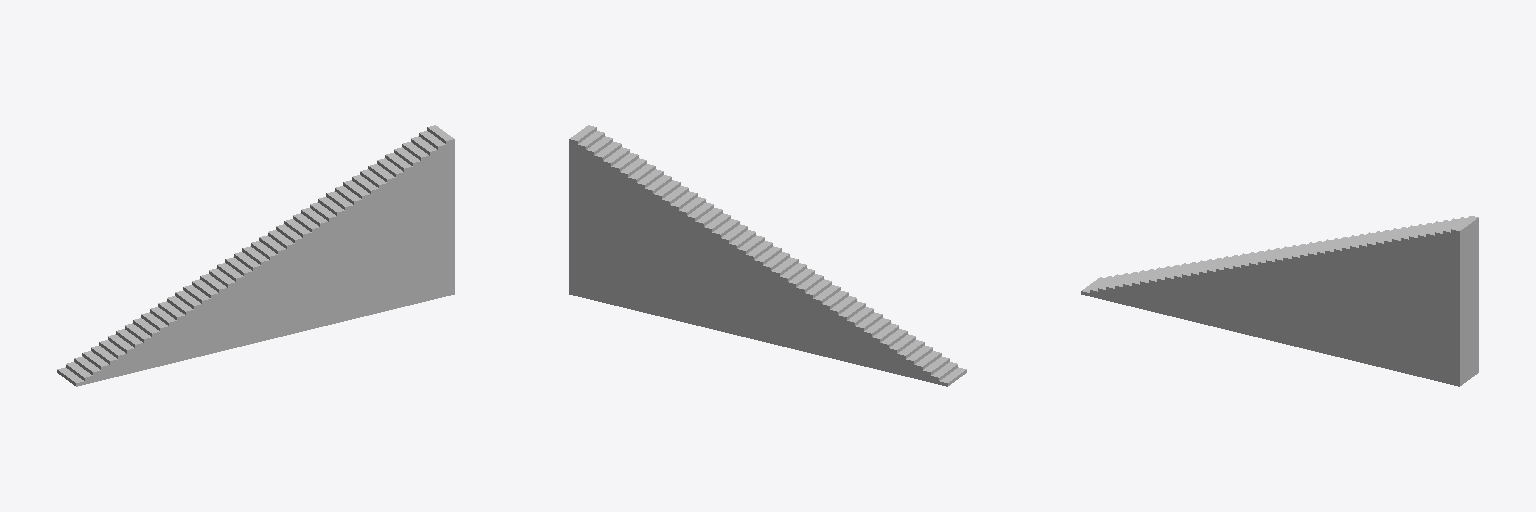
Rendered from Linear_Stair_Brush_StaticMesh_01.OBJ.
3 renders of one model, left to right at view 1: azimuth 30°, elevation 25°; view 2: azimuth 150°, elevation 25°; view 3: azimuth 330°, elevation 25°, orthographic.
Parts seen in each view (by area): view 1: UnrealEdObject; view 2: UnrealEdObject; view 3: UnrealEdObject.
Boxes of the visible parts, x1,y1,x2,y2 form: UnrealEdObject: [57, 125, 454, 386]; UnrealEdObject: [569, 125, 966, 386]; UnrealEdObject: [1081, 216, 1478, 386].
Size of the model in its own units: 2295 by 900 by 200.